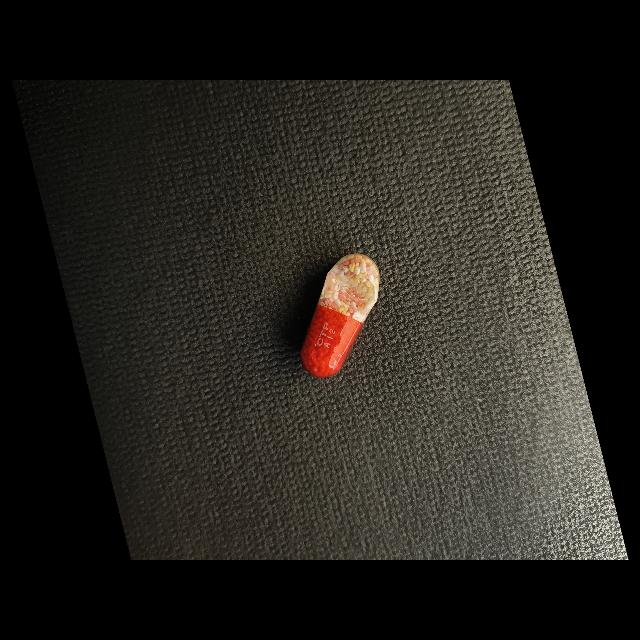Defective Capsule: (301, 254, 380, 377)
